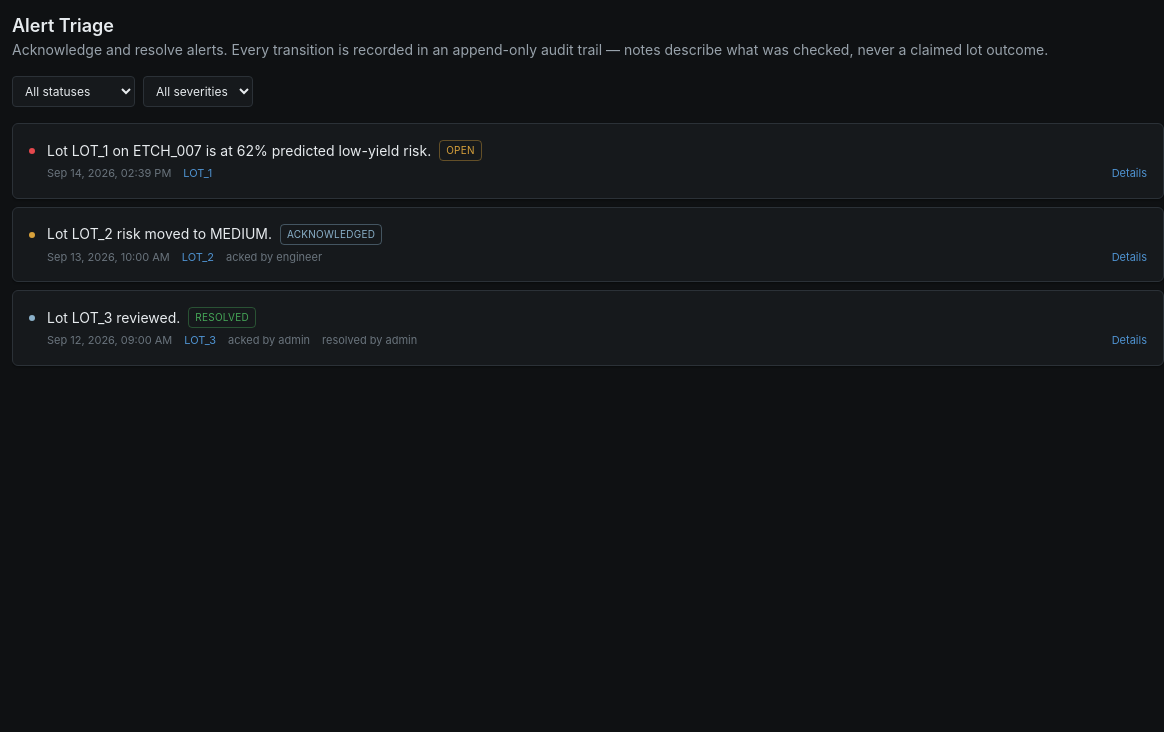
Scenario: Alerts triage page (Phase 8) › hides triage actions from viewers (read-only role)
Expected: the text "Lot LOT_1 on ETCH_007 is at 62% predicted low-yield risk." is shown, [47, 140, 431, 160]
Click the button "Details" in the row of "Sep 14, 2026, 02:39 PM".
click(1129, 173)  # box [1112, 165, 1147, 182]
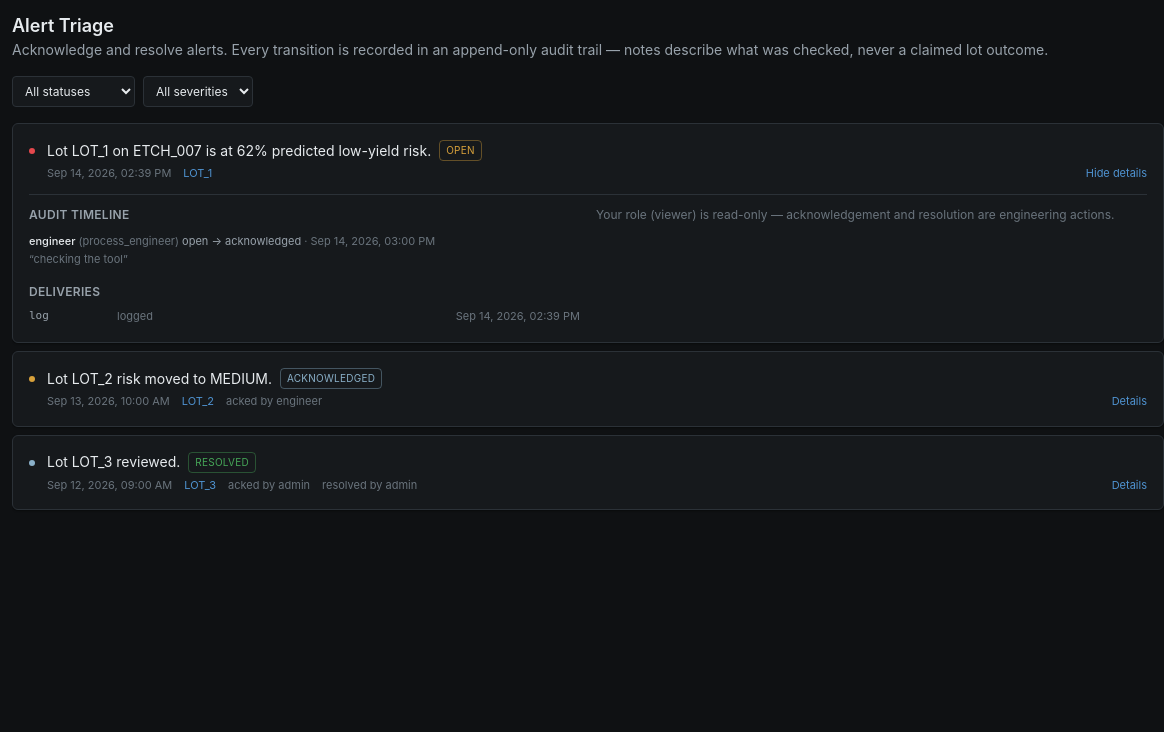
Expected: the text "OPEN" is shown, [439, 140, 482, 161]
Now the text "read-only" is shown, box [692, 206, 1114, 222]
